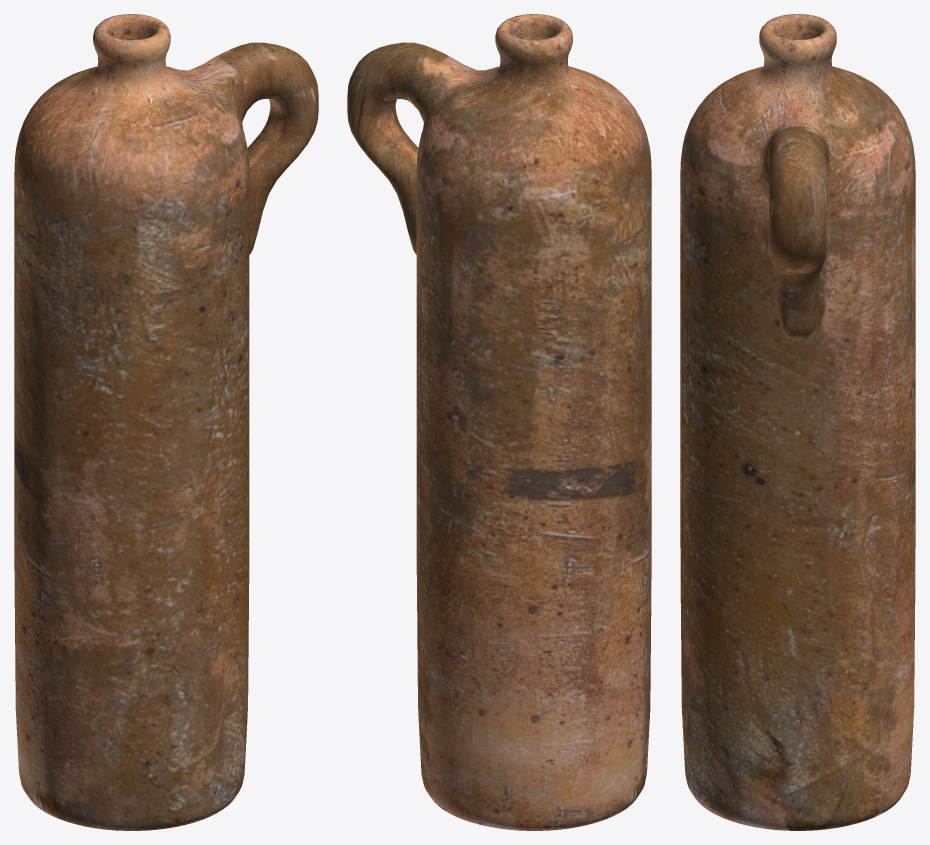
The model's file is modelo19.glb.
3 renders of one model, left to right at view 1: azimuth 30°, elevation 25°; view 2: azimuth 150°, elevation 25°; view 3: azimuth 270°, elevation 25°, orthographic.
Visible parts, largest first — view 1: Garrafa TEX; view 2: Garrafa TEX; view 3: Garrafa TEX.
Boxes of the visible parts, <box> form: Garrafa TEX: <box>14,14,318,830</box>; Garrafa TEX: <box>347,14,651,830</box>; Garrafa TEX: <box>680,14,915,830</box>.
Size of the model in its own units: 4.05 by 10.41 by 2.92.
1 material, 1 textured.
